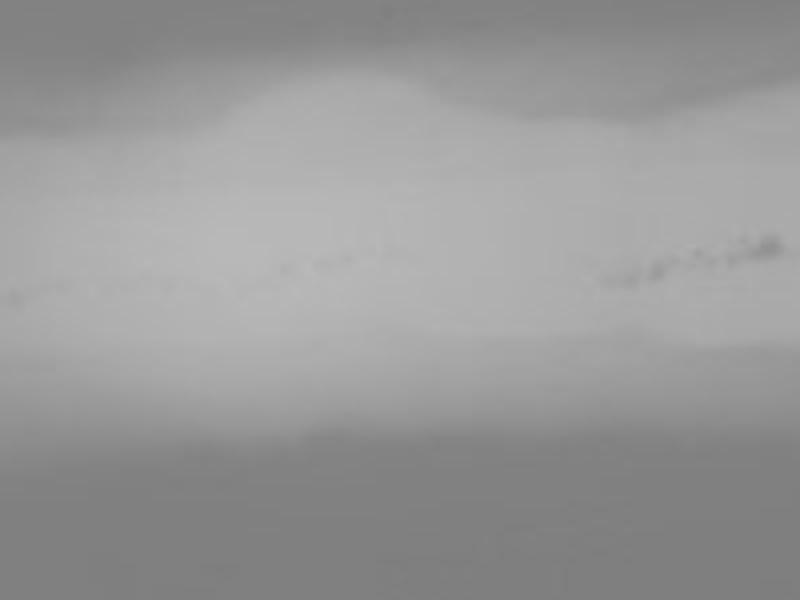defect: (746, 230, 788, 262), (602, 271, 641, 295), (687, 245, 719, 273), (722, 247, 746, 275), (647, 261, 671, 286)
